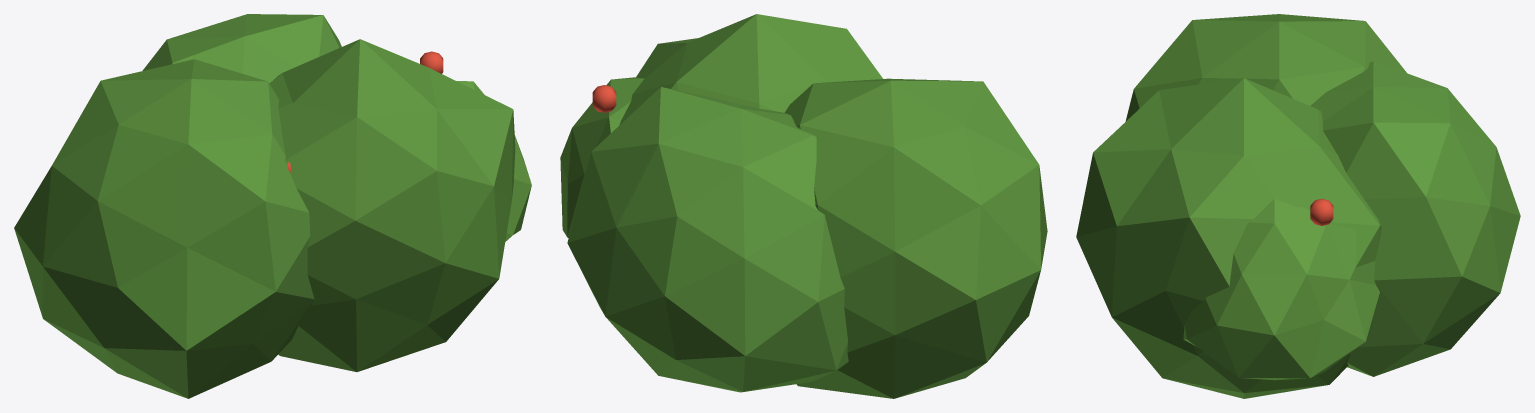
File: cali.glb
3 views of the same model, side by side, from view 1: azimuth 30°, elevation 25°; view 2: azimuth 150°, elevation 25°; view 3: azimuth 270°, elevation 25° (orthographic). The views are drawn at different scales.
Parts seen in each view (by area): view 1: cali; view 2: cali; view 3: cali.
Boxes of the visible parts, bbox=[...] form: cali: bbox=[14, 14, 531, 398]; cali: bbox=[560, 14, 1047, 398]; cali: bbox=[1076, 14, 1520, 398].
Size of the model in its own units: 1.56 by 1.03 by 1.28.
